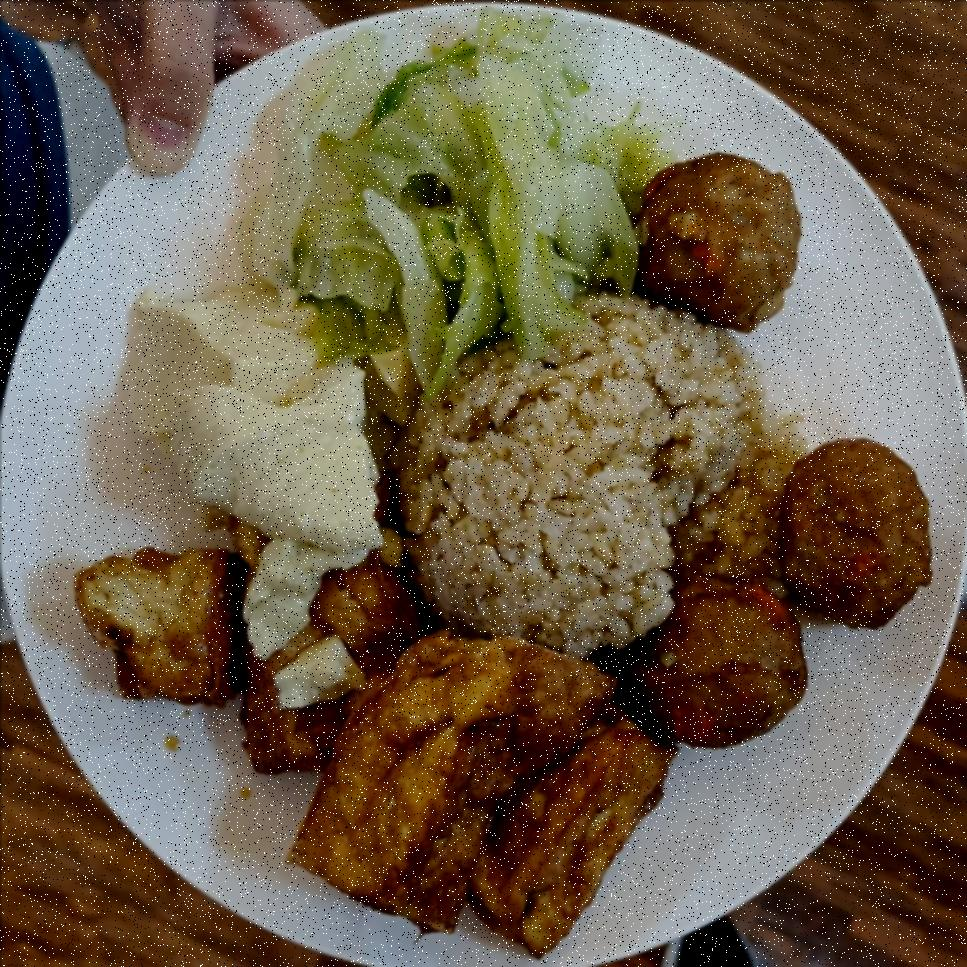big fried chicken leg: (0, 8, 959, 967)
box: (392, 286, 775, 653)
braised fish fillet: (70, 500, 668, 958), (239, 7, 664, 353), (122, 273, 374, 714)
braised pork: (631, 147, 932, 751)
